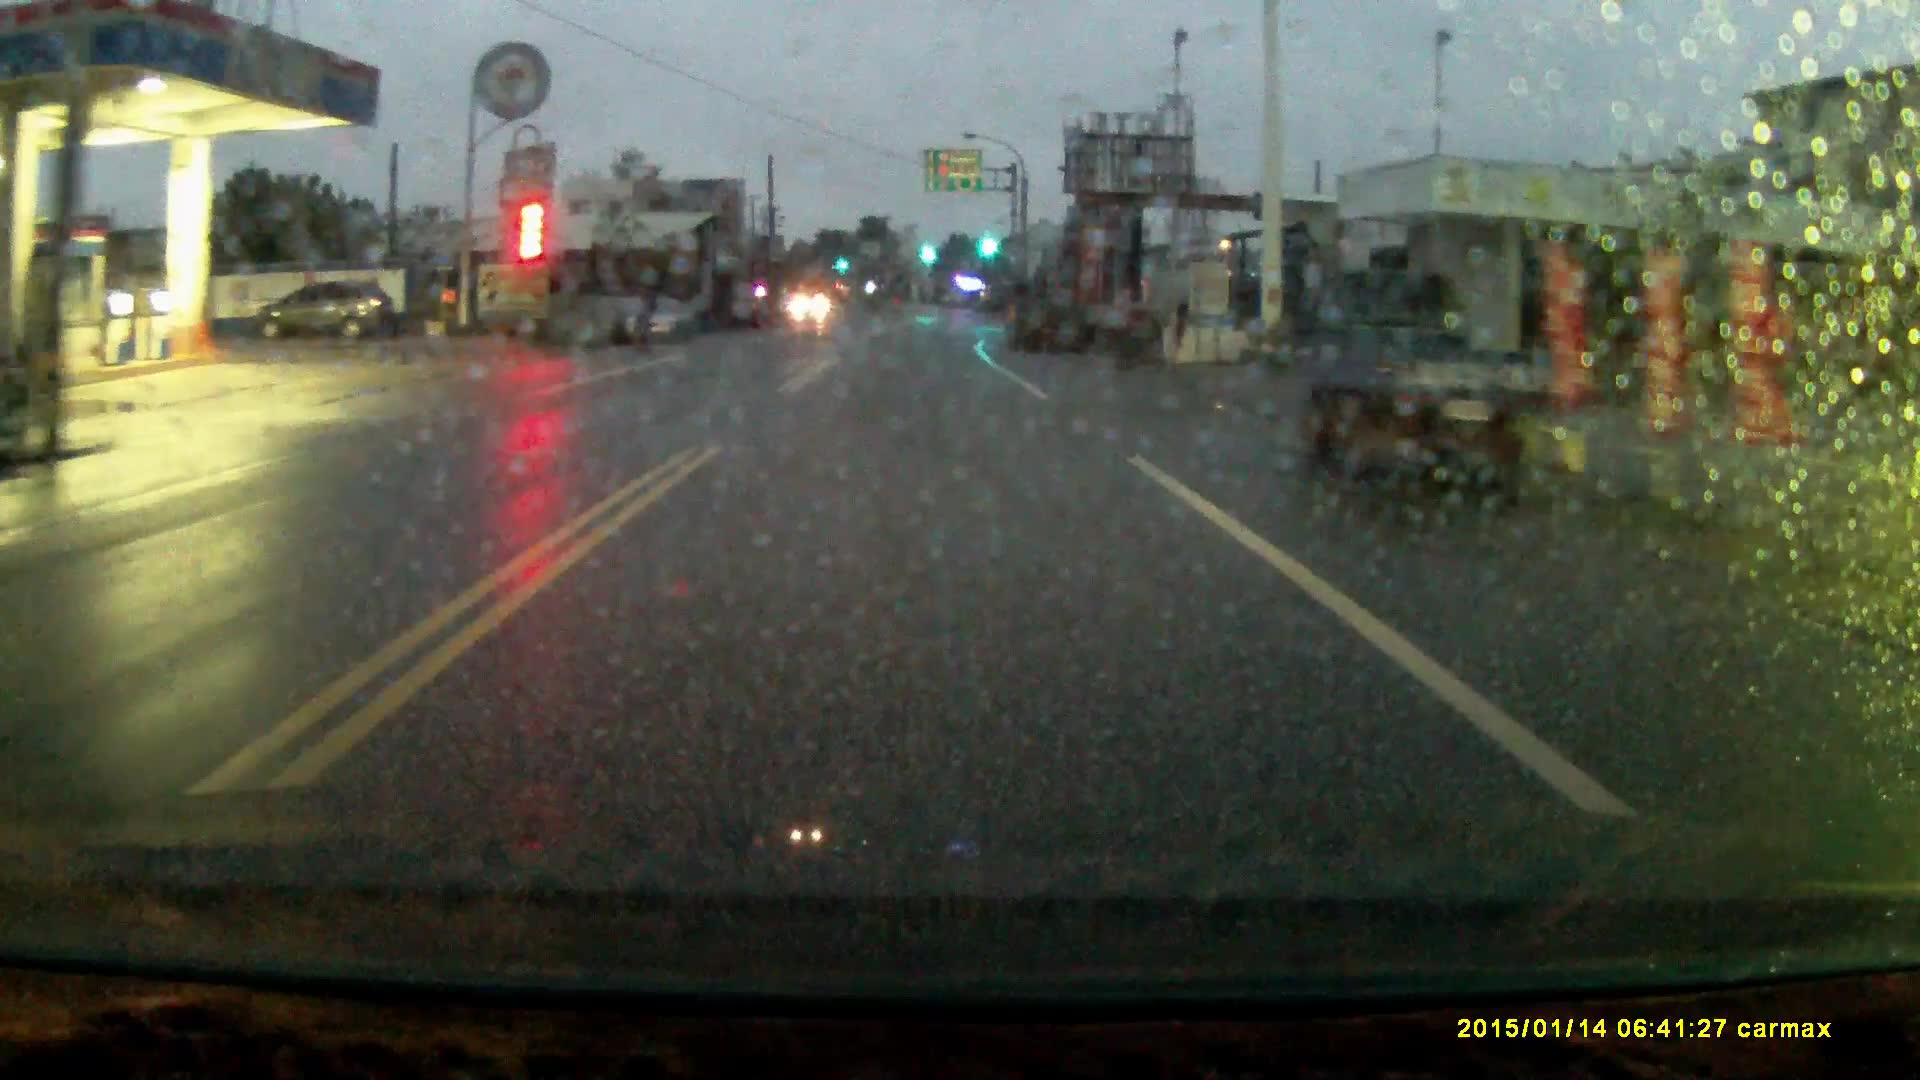rider: (634, 273, 665, 358)
vehicle: (1318, 268, 1555, 489), (255, 284, 394, 338), (1008, 274, 1094, 358), (626, 301, 703, 346)
